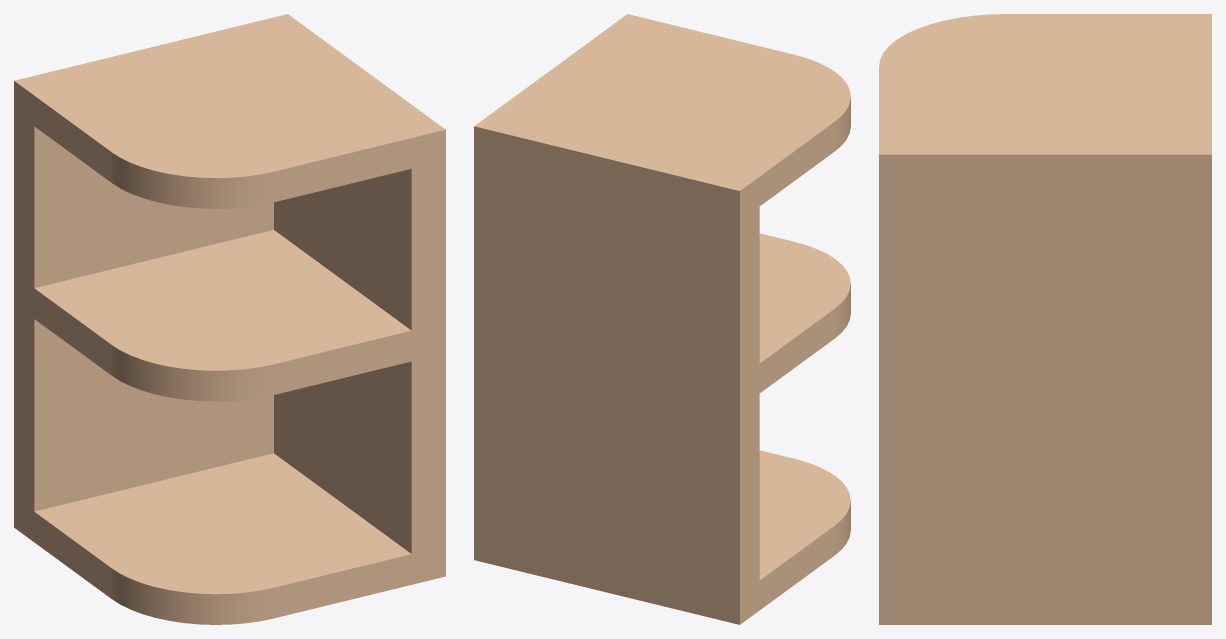
File: kitchenCabinetUpperCorner-col.glb
3 renders of one model, left to right at view 1: azimuth 30°, elevation 25°; view 2: azimuth 150°, elevation 25°; view 3: azimuth 270°, elevation 25°, orthographic. The views are drawn at different scales.
Visible parts, largest first — view 1: kitchenCabinetUpperCorner-col; view 2: kitchenCabinetUpperCorner-col; view 3: kitchenCabinetUpperCorner-col.
Boxes of the visible parts, box(x1,y1,x2,y2) form: kitchenCabinetUpperCorner-col: box(14, 14, 445, 624); kitchenCabinetUpperCorner-col: box(474, 14, 850, 624); kitchenCabinetUpperCorner-col: box(879, 14, 1211, 624).
Size of the model in its own units: 0.25 by 0.39 by 0.25.
